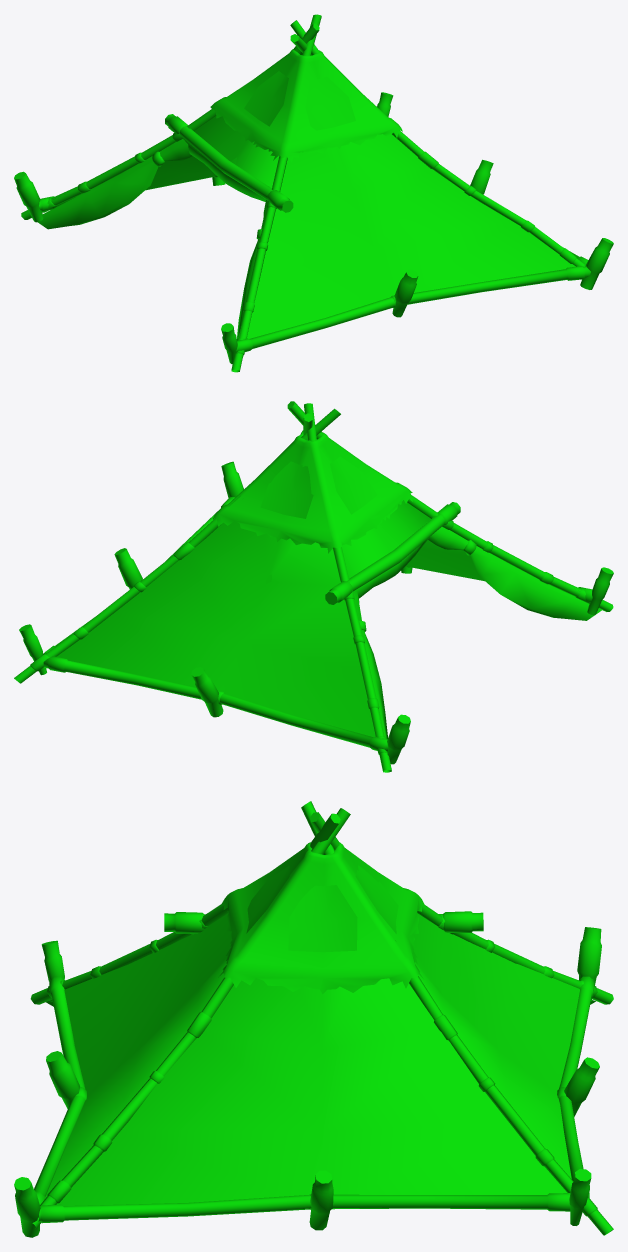
The picture shows the model from 3 angles, top to bottom: view 1: azimuth 30°, elevation 25°; view 2: azimuth 150°, elevation 25°; view 3: azimuth 270°, elevation 25°; orthographic projection. The views are drawn at different scales.
Size of the model in its own units: 760 by 443 by 750.
